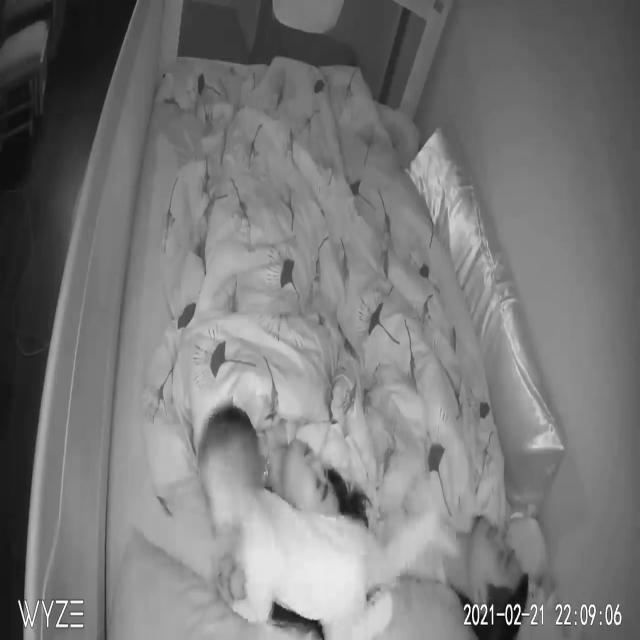baby: (197, 401, 459, 639)
